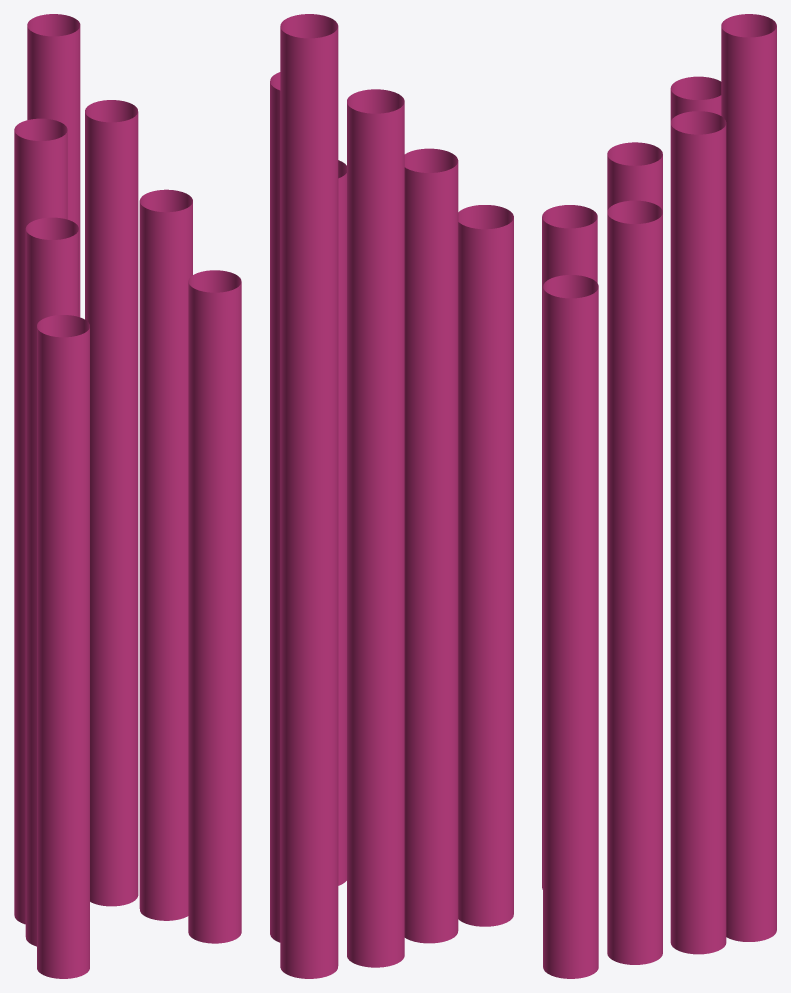
File: PIPEORGAN.glb
The picture shows the model from 3 angles, left to right: view 1: azimuth 30°, elevation 25°; view 2: azimuth 150°, elevation 25°; view 3: azimuth 270°, elevation 25°; orthographic projection. The views are drawn at different scales.
Parts seen in each view (by area): view 1: Cylinder.009; view 2: Cylinder.009; view 3: Cylinder.009.
Boxes of the visible parts, left/top/right/bottom form: Cylinder.009: left=14, top=14, right=241, bottom=978; Cylinder.009: left=270, top=14, right=513, bottom=978; Cylinder.009: left=542, top=14, right=776, bottom=978.
Bounding box in the file's own units: 37.53 × 157 × 36.84.
